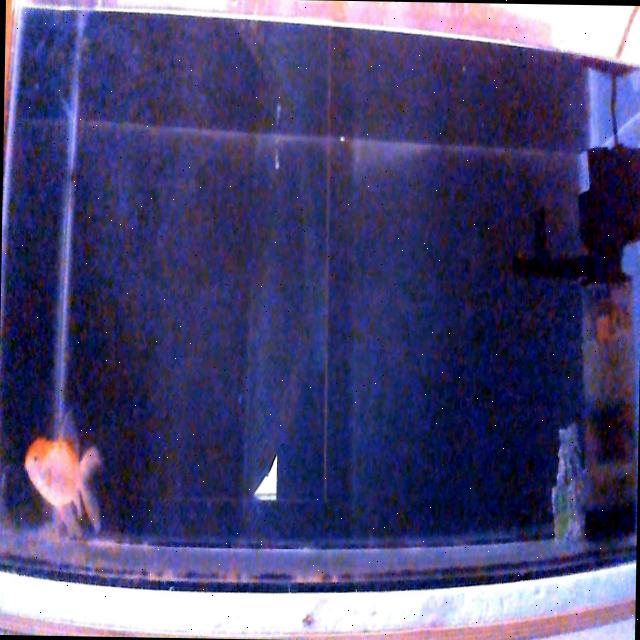fish: (23, 430, 103, 537)
